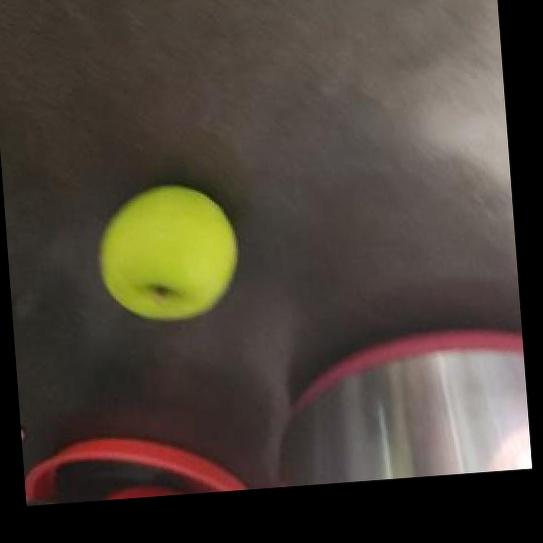green apple: (97, 182, 242, 322)
